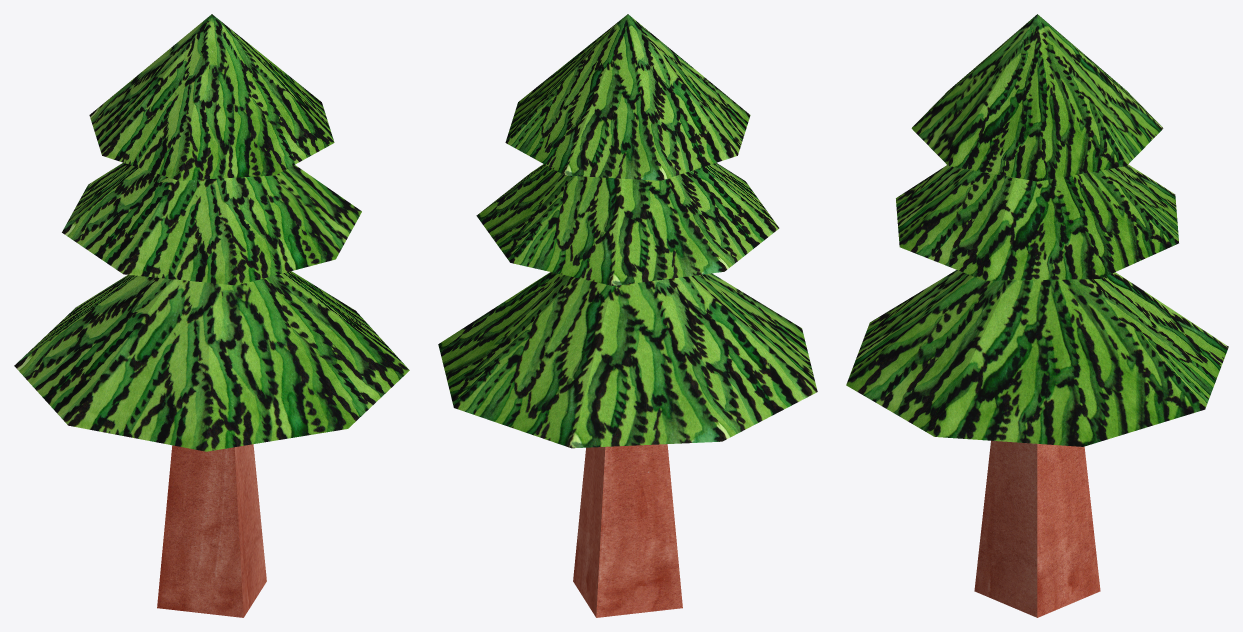
File: tree1.glb
The picture shows the model from 3 angles, left to right: view 1: azimuth 30°, elevation 25°; view 2: azimuth 150°, elevation 25°; view 3: azimuth 270°, elevation 25°; orthographic projection.
Visible parts, largest first — view 1: Branches 3, Branches 2, Branches 1, Log; view 2: Branches 3, Branches 2, Branches 1, Log; view 3: Branches 3, Branches 2, Branches 1, Log.
Boxes of the visible parts, x1,y1,x2,y2 form: Branches 3: (14, 271, 409, 451); Branches 2: (62, 162, 361, 285); Branches 1: (89, 14, 334, 180); Log: (157, 444, 266, 617); Branches 3: (438, 272, 817, 448); Branches 2: (476, 163, 779, 285); Branches 1: (505, 14, 750, 180); Log: (573, 444, 682, 617); Branches 3: (846, 270, 1228, 446); Branches 2: (896, 164, 1178, 280); Branches 1: (911, 14, 1163, 181); Log: (974, 440, 1100, 617).
Size of the model in its own units: 6.07 by 10.1 by 6.07.
Materials: 1 (1 with a texture image).
